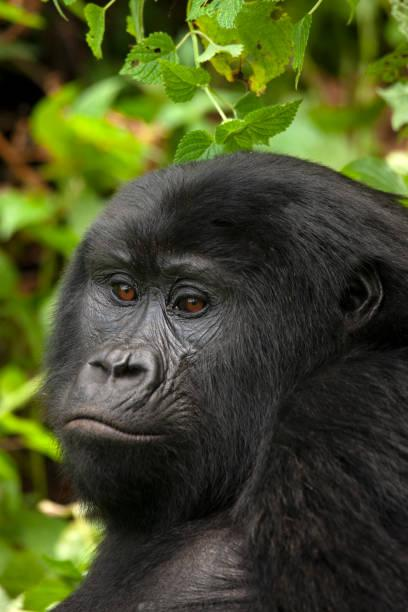goriile_montagne: (37, 130, 408, 612)
